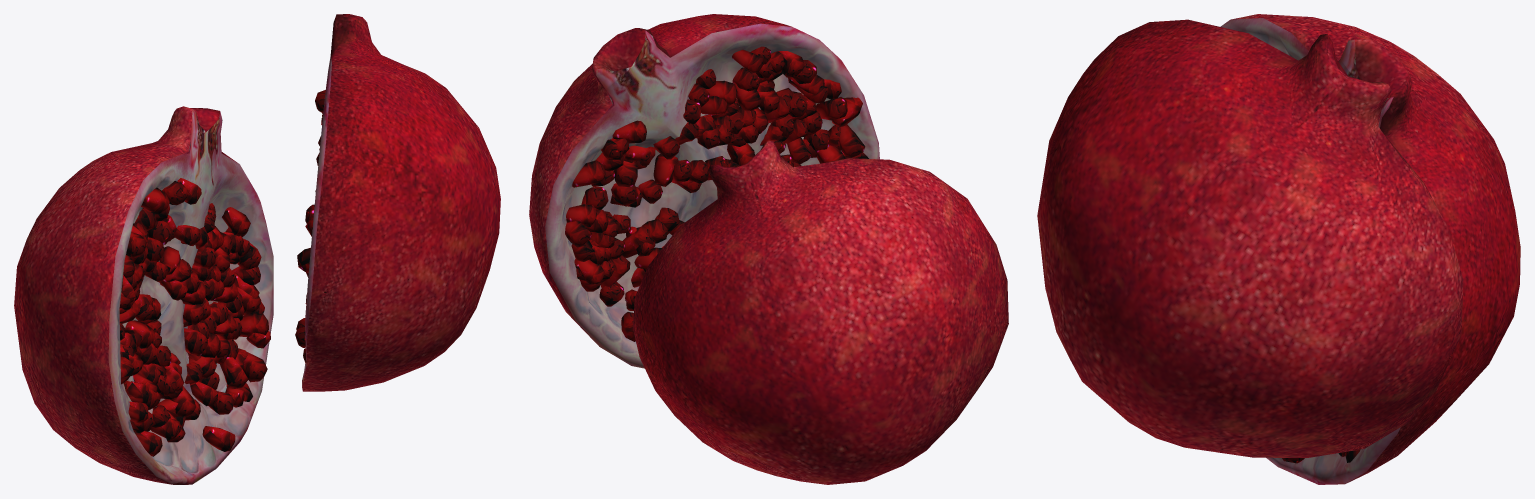
Rendered from sliced_pomegranate.glb.
3 renders of one model, left to right at view 1: azimuth 30°, elevation 25°; view 2: azimuth 150°, elevation 25°; view 3: azimuth 270°, elevation 25°, orthographic. The views are drawn at different scales.
Parts seen in each view (by area): view 1: pom half flat, pom half flat_pom skin half_0.001, pom half flat_Material.003_0.001, pom half flat_seed_0.001; view 2: pom half flat, pom half flat_seed_0.001, pom half flat_Material.003_0.001, pom half flat_pom skin half_0.001; view 3: pom half flat_pom skin half_0.001, pom half flat.
Part boxes in pixels (x1=…): pom half flat: x1=14, y1=106, x2=273, y2=484; pom half flat_pom skin half_0.001: x1=302, y1=14, x2=500, y2=391; pom half flat_Material.003_0.001: x1=302, y1=56, x2=331, y2=389; pom half flat_seed_0.001: x1=295, y1=90, x2=326, y2=363; pom half flat: x1=633, y1=140, x2=1008, y2=484; pom half flat_seed_0.001: x1=565, y1=46, x2=868, y2=341; pom half flat_Material.003_0.001: x1=545, y1=23, x2=879, y2=368; pom half flat_pom skin half_0.001: x1=529, y1=14, x2=791, y2=341; pom half flat_pom skin half_0.001: x1=1037, y1=19, x2=1463, y2=457; pom half flat: x1=1220, y1=14, x2=1520, y2=484.
Size of the model in its own units: 5.55 by 5.06 by 4.25.
6 materials, 6 textured.
